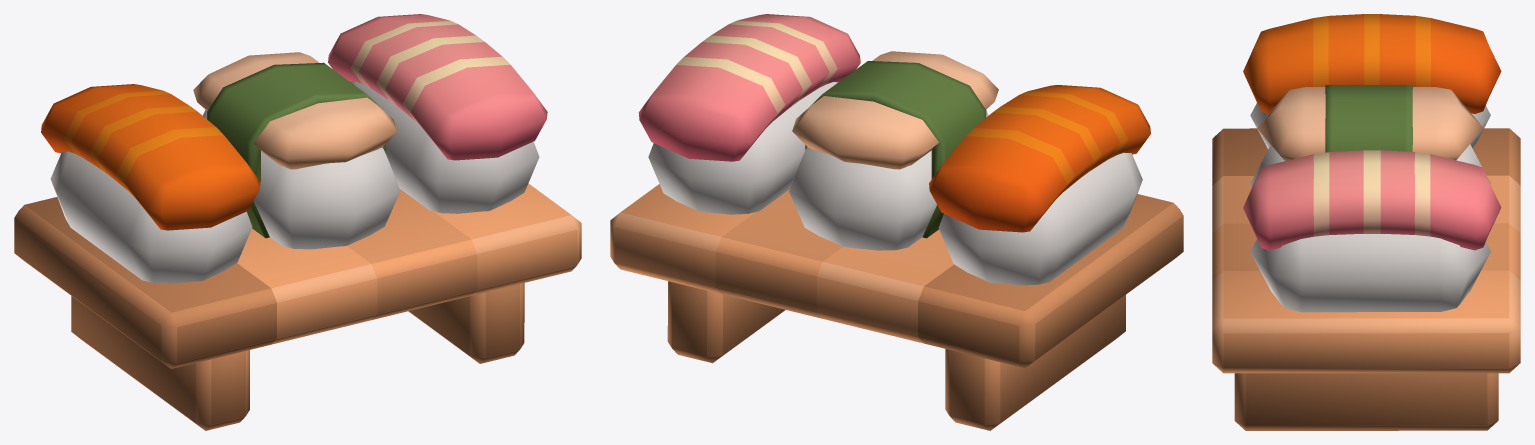
File: lpb_food_sushi.fbx
The picture shows the model from 3 angles, left to right: view 1: azimuth 30°, elevation 25°; view 2: azimuth 150°, elevation 25°; view 3: azimuth 270°, elevation 25°; orthographic projection. The views are drawn at different scales.
Visible parts, largest first — view 1: sushi; view 2: sushi; view 3: sushi.
Boxes of the visible parts, left/top/right/bottom form: sushi: left=14, top=14, right=581, bottom=430; sushi: left=610, top=14, right=1183, bottom=430; sushi: left=1212, top=14, right=1520, bottom=430.
Bounding box in the file's own units: 53.49 × 32.78 × 34.93.
